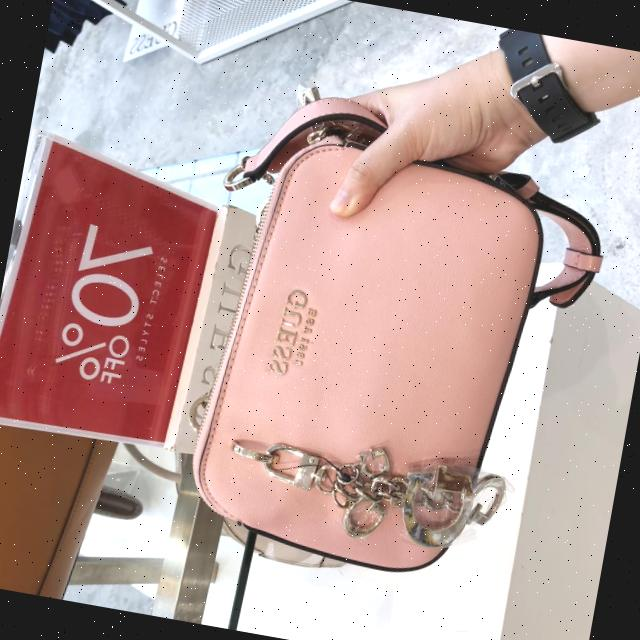handbag: (160, 72, 629, 605)
